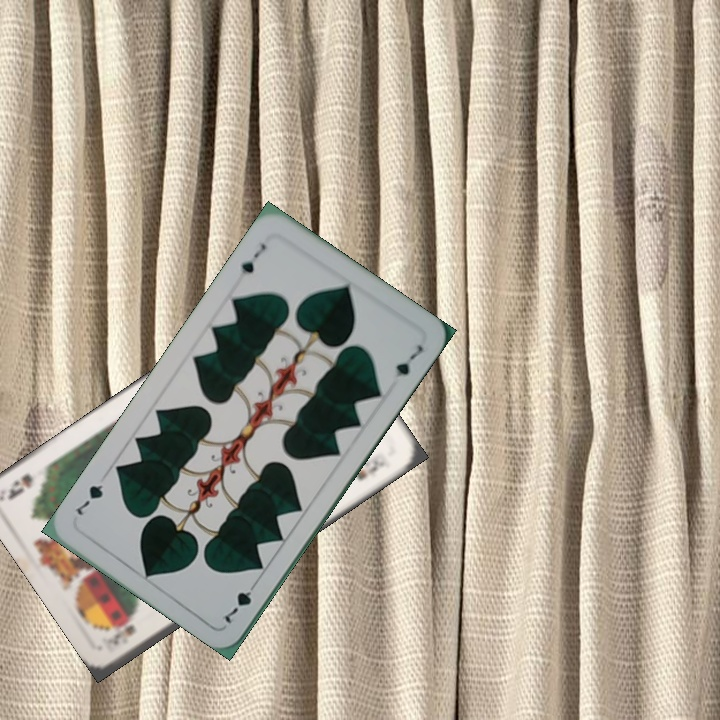G7: (220, 575, 261, 626), (237, 239, 269, 277)
SK: (104, 620, 138, 649)
